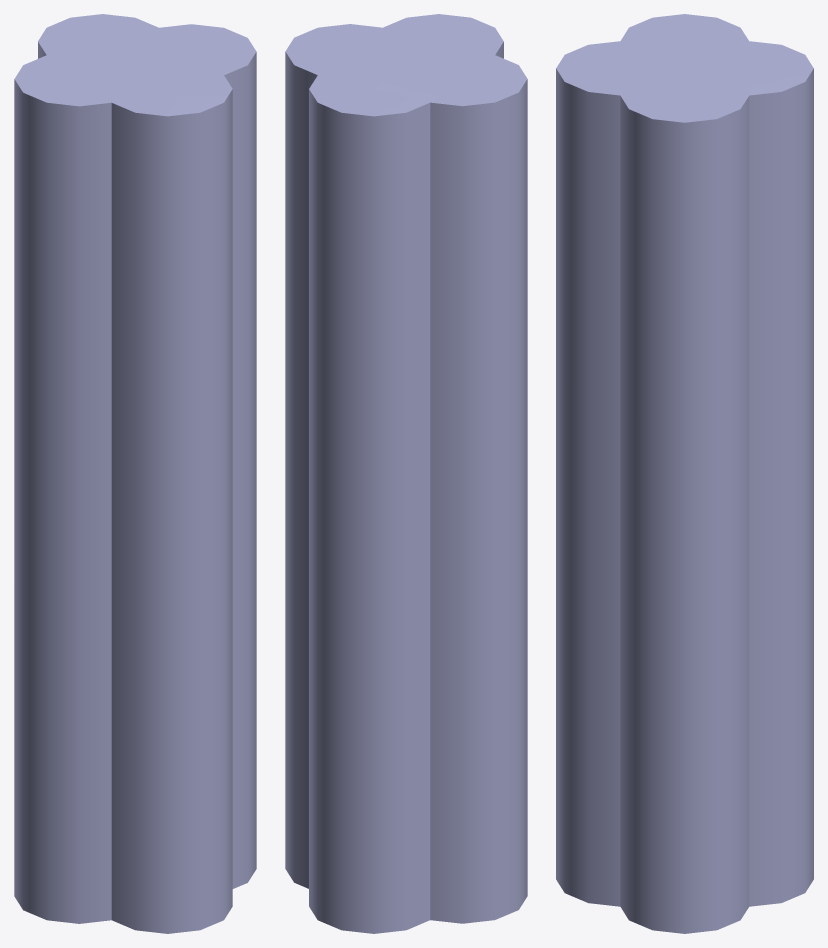
Rendered from Pillar_02_Center_Lod0.fbx.
The picture shows the model from 3 angles, left to right: view 1: azimuth 30°, elevation 25°; view 2: azimuth 150°, elevation 25°; view 3: azimuth 270°, elevation 25°; orthographic projection.
Visible parts, largest first — view 1: Pillar_02_Center_Lod0; view 2: Pillar_02_Center_Lod0; view 3: Pillar_02_Center_Lod0.
Boxes of the visible parts, <box> form: Pillar_02_Center_Lod0: <box>14,14,256,933</box>; Pillar_02_Center_Lod0: <box>285,14,527,933</box>; Pillar_02_Center_Lod0: <box>556,14,813,933</box>.
Bounding box in the file's own units: 85.11 × 296 × 85.23.
